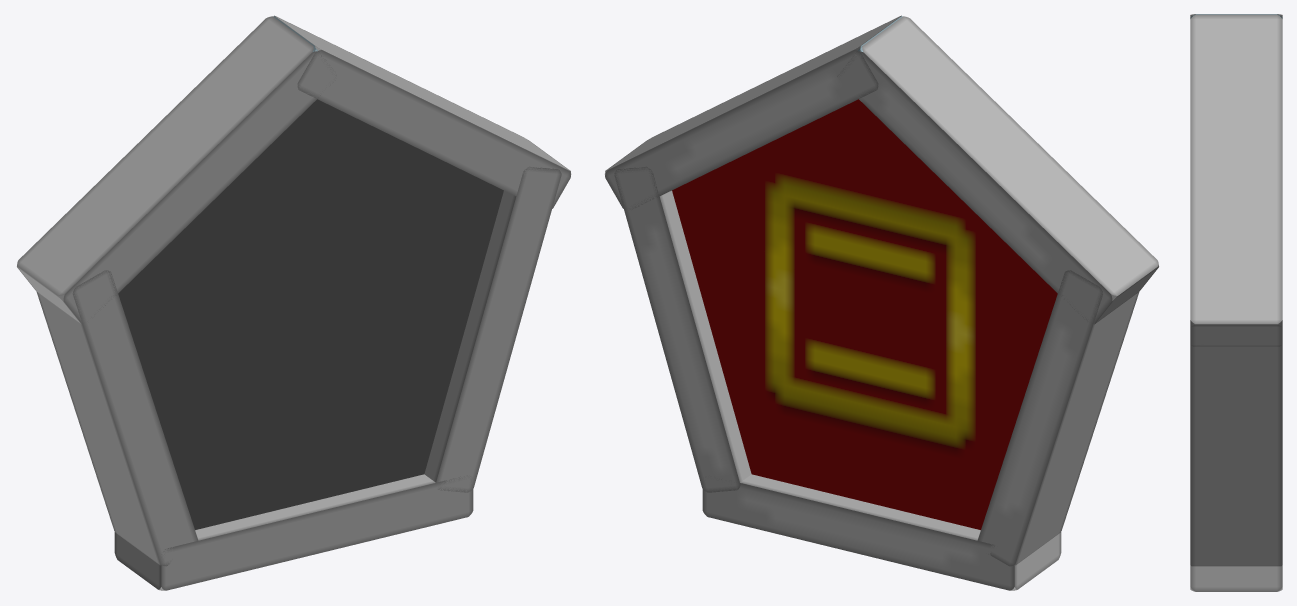
File: wizard_card.fbx
3 views of the same model, side by side, from view 1: azimuth 30°, elevation 25°; view 2: azimuth 150°, elevation 25°; view 3: azimuth 270°, elevation 25° (orthographic).
Parts seen in each view (by area): view 1: cylinder, cuboid_3, cuboid_1, cuboid_4, cuboid, cuboid_2; view 2: cylinder, cuboid_3, cuboid_1, cuboid, cuboid_4, cuboid_2; view 3: cuboid_2, cuboid, cuboid_4.
Boxes of the visible parts, left/top/right/bottom form: cylinder: left=118, top=99, right=503, bottom=529; cuboid_3: left=17, top=16, right=336, bottom=324; cuboid_1: left=36, top=270, right=198, bottom=566; cuboid_4: left=114, top=474, right=473, bottom=590; cuboid: left=424, top=166, right=561, bottom=492; cuboid_2: left=273, top=15, right=571, bottom=208; cylinder: left=672, top=99, right=1057, bottom=529; cuboid_3: left=837, top=16, right=1158, bottom=324; cuboid_1: left=977, top=270, right=1139, bottom=566; cuboid: left=614, top=166, right=751, bottom=492; cuboid_4: left=702, top=474, right=1061, bottom=590; cuboid_2: left=604, top=15, right=902, bottom=209; cuboid_2: left=1190, top=14, right=1282, bottom=346; cuboid: left=1190, top=320, right=1282, bottom=566; cuboid_4: left=1190, top=565, right=1282, bottom=591.
Size of the model in its own units: 79.57 by 75 by 12.5.
Materials: 1 (1 with a texture image).
